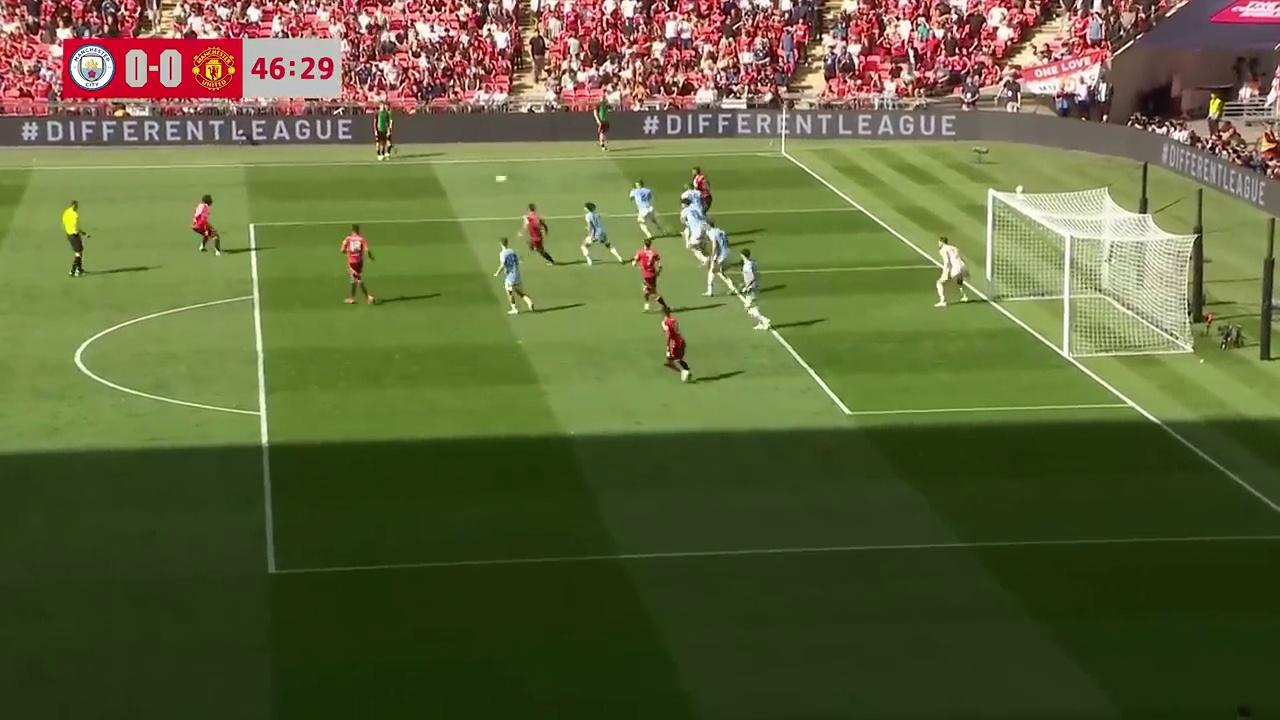ball: (493, 173, 510, 187)
player: (493, 238, 534, 314), (658, 303, 694, 382), (340, 224, 375, 305), (703, 220, 737, 297), (629, 239, 664, 312), (934, 236, 968, 306), (582, 201, 620, 263), (739, 248, 767, 326), (517, 203, 552, 264), (680, 204, 710, 266), (192, 194, 220, 255), (629, 179, 657, 237), (691, 166, 712, 221), (679, 182, 700, 231)
referee: (62, 199, 89, 277)
